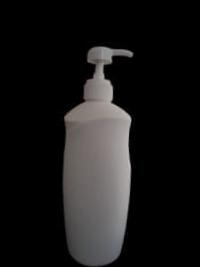Plastik: (63, 45, 133, 266)
